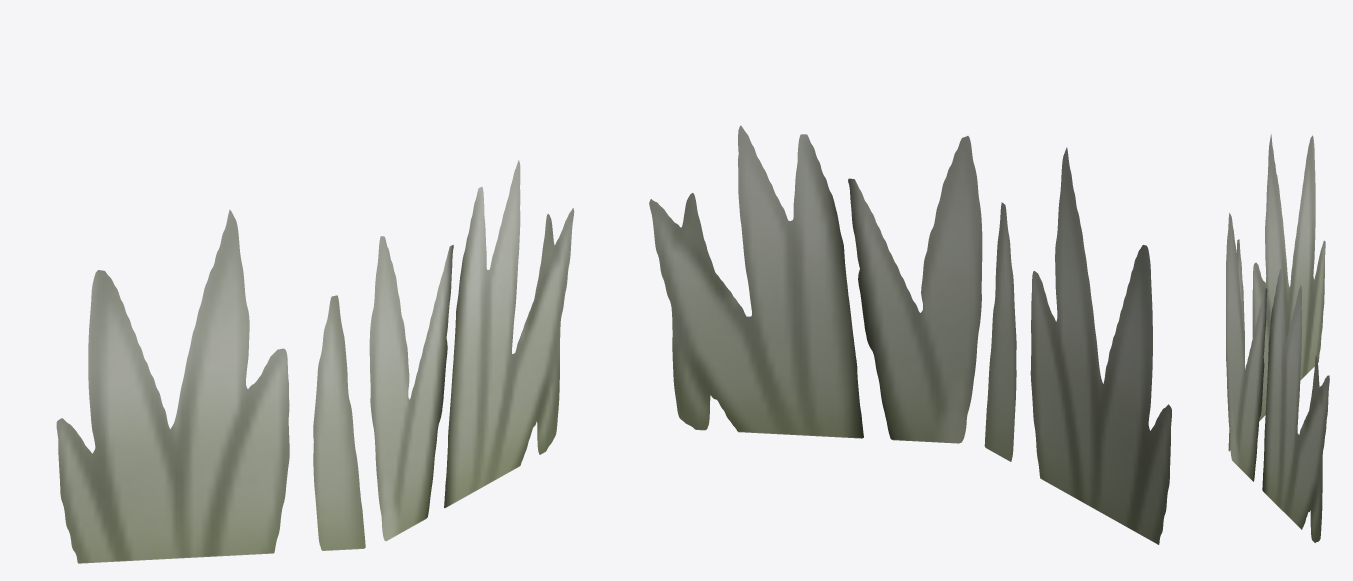
File: SnowGrass_Alpha_01_001.FBX
3 renders of one model, left to right at view 1: azimuth 30°, elevation 25°; view 2: azimuth 150°, elevation 25°; view 3: azimuth 270°, elevation 25°, orthographic. The views are drawn at different scales.
Parts seen in each view (by area): view 1: SnowGrass_Alpha_01_001; view 2: SnowGrass_Alpha_01_001; view 3: SnowGrass_Alpha_01_001.
Boxes of the visible parts, x1,y1,x2,y2 form: SnowGrass_Alpha_01_001: [56, 160, 574, 563]; SnowGrass_Alpha_01_001: [649, 125, 1171, 544]; SnowGrass_Alpha_01_001: [1226, 134, 1329, 542].
Bounding box in the file's own units: 2.49 × 1.7 × 0.5287.
